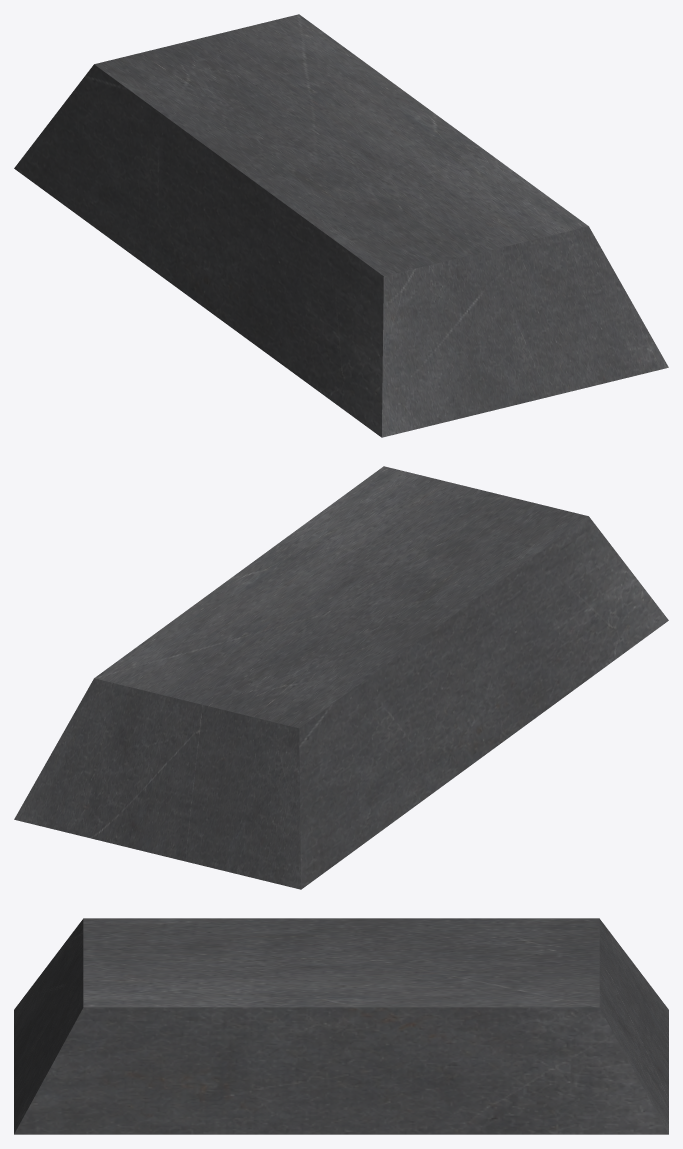
File: Lingote.fbx
3 views of the same model, one above another, from view 1: azimuth 30°, elevation 25°; view 2: azimuth 150°, elevation 25°; view 3: azimuth 270°, elevation 25° (orthographic). The views are drawn at different scales.
Parts seen in each view (by area): view 1: Lingote; view 2: Lingote; view 3: Lingote.
Part boxes in pixels (left/top/right/bottom): Lingote: left=14, top=14, right=668, bottom=437; Lingote: left=14, top=466, right=668, bottom=889; Lingote: left=14, top=918, right=668, bottom=1134.
Bounding box in the file's own units: 52.18 × 21.32 × 116.
